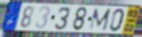0: (109, 8, 125, 33)
3: (34, 5, 52, 31), (54, 6, 72, 31)
8: (72, 6, 88, 32), (20, 6, 35, 29)
M: (88, 8, 113, 32)
